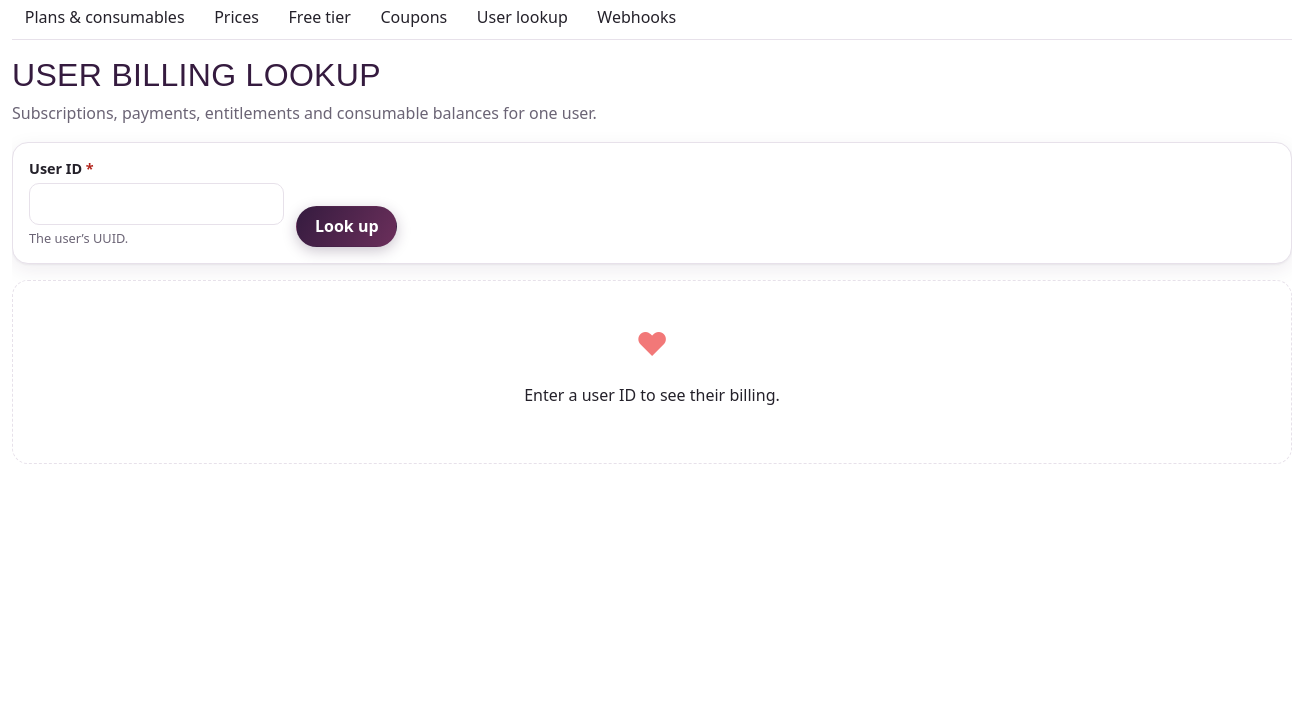
it: UserBillingPage › offers refunds only for refundable payments and only with billing.refund
In the field labelled "User ID": [157, 204] box [29,183,284,225], type "7c9e6679-7425-40de-944b-e07fc1f90ae7"
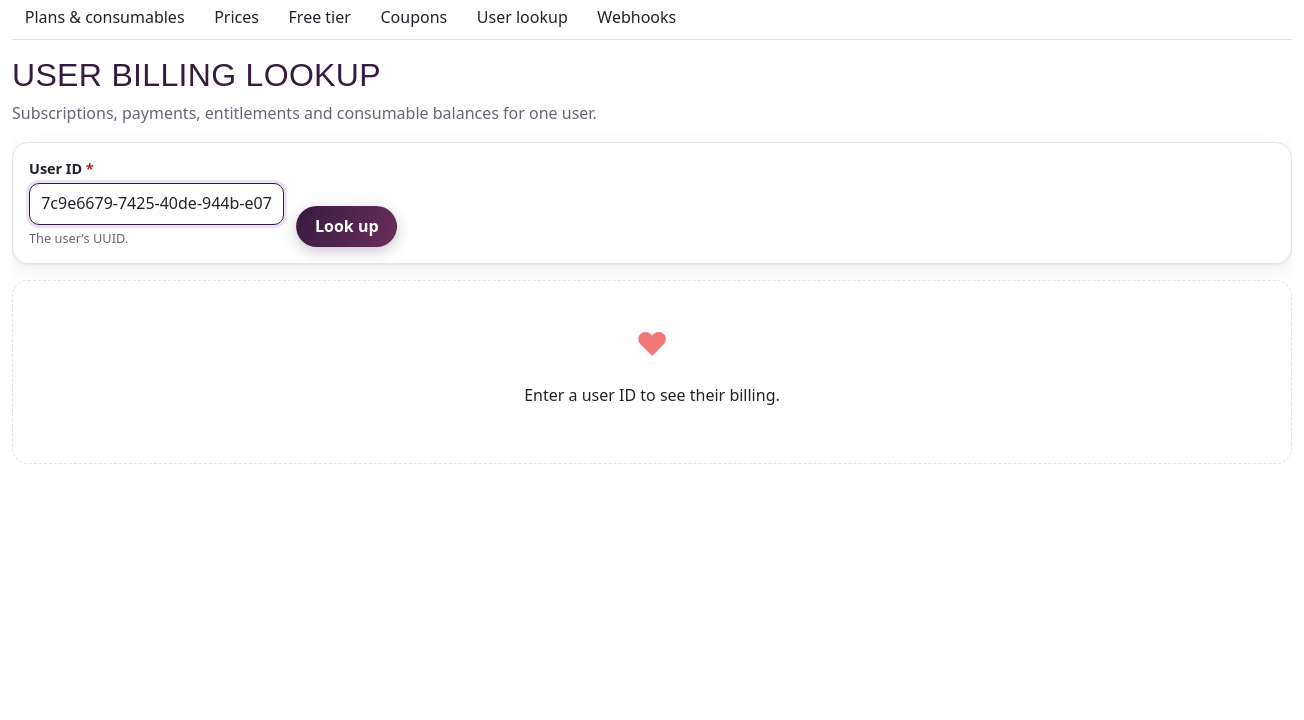
Click the button "Look up": [347, 227] box [296,206,397,247]
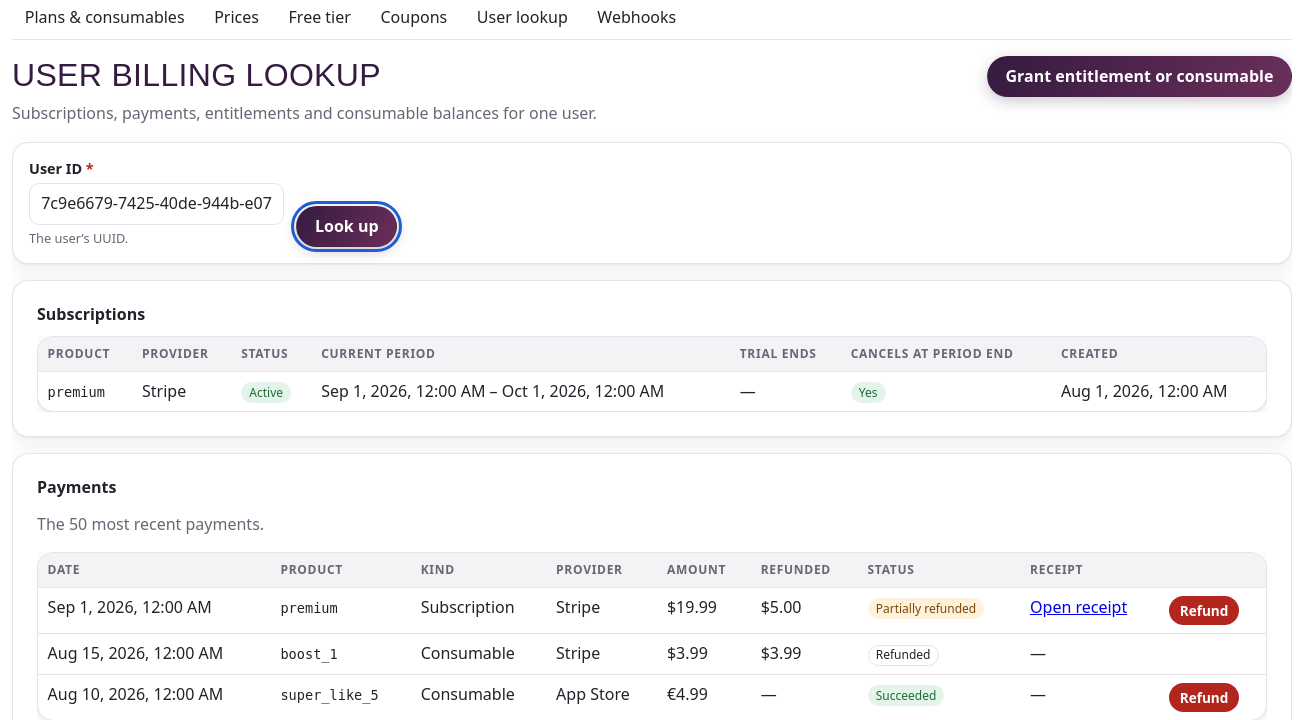
Check: the heading "Subscriptions" is shown, box [37,303,145,325]
